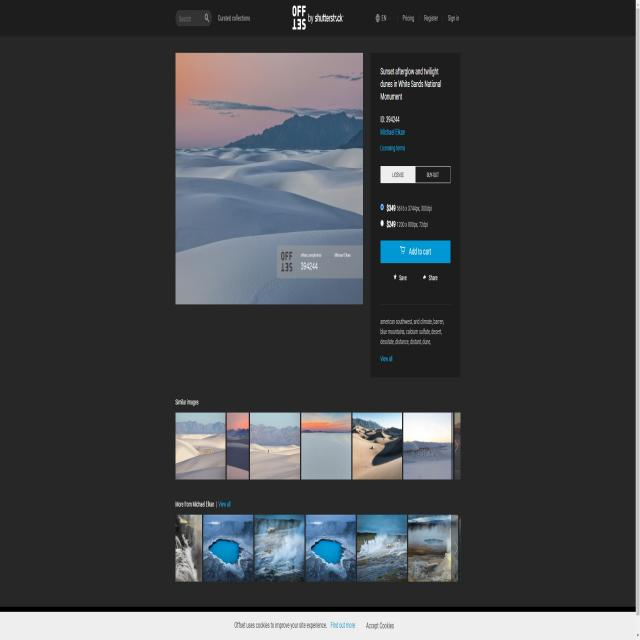menu-bar: (371, 9, 466, 29)
search: (173, 10, 217, 25)
